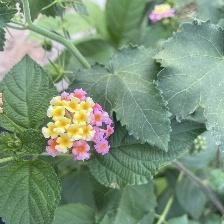common lanthana: (39, 85, 124, 164), (149, 2, 177, 25)
